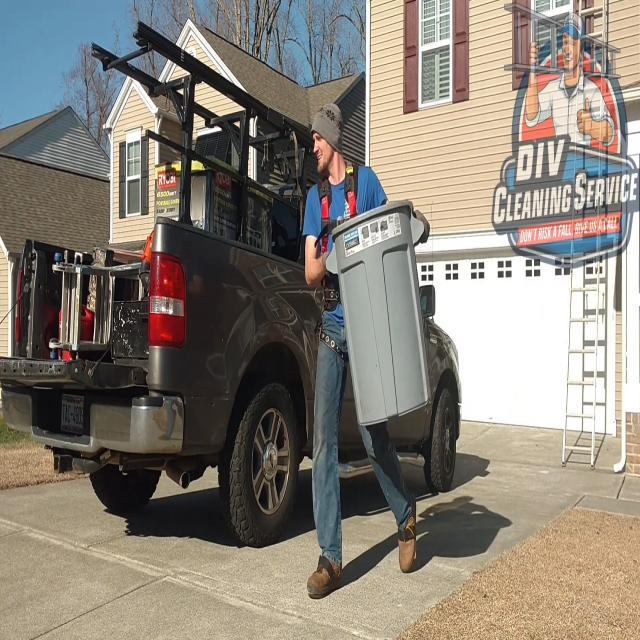belt: (312, 159, 360, 358)
